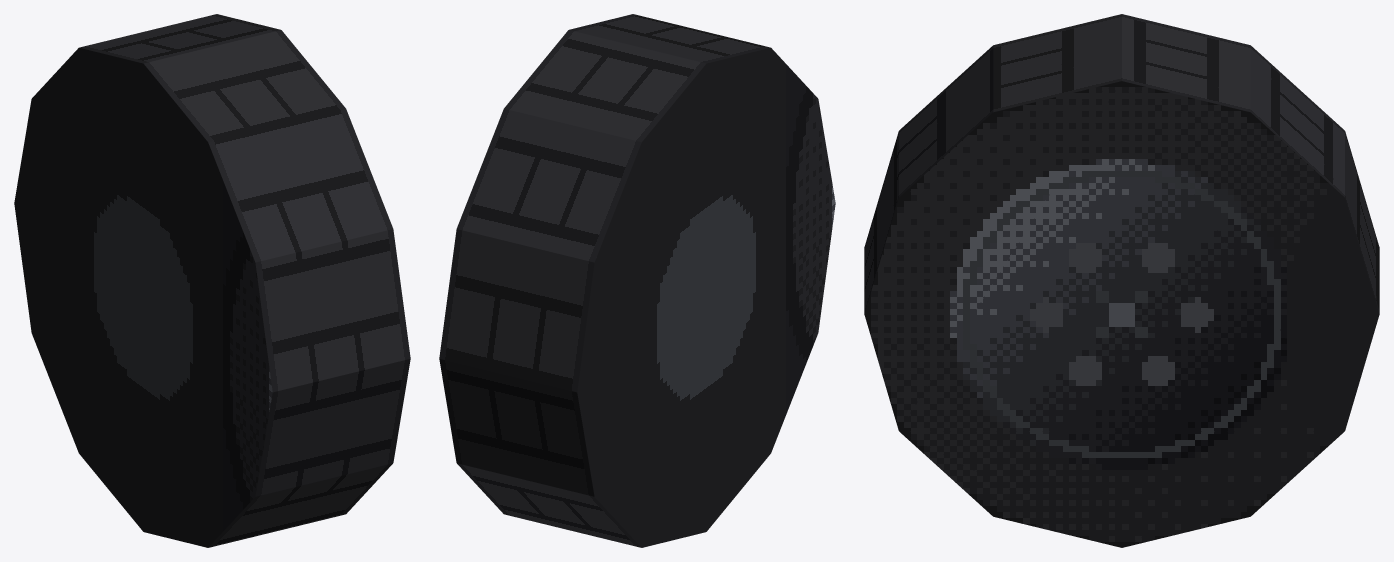
The model's file is wheel_steel.glb.
3 views of the same model, side by side, from view 1: azimuth 30°, elevation 25°; view 2: azimuth 150°, elevation 25°; view 3: azimuth 270°, elevation 25° (orthographic).
Visible parts, largest first — view 1: wheel_steel; view 2: wheel_steel; view 3: wheel_steel.
Part boxes in pixels (left/top/right/bottom): wheel_steel: left=14, top=14, right=410, bottom=547; wheel_steel: left=439, top=14, right=835, bottom=547; wheel_steel: left=864, top=14, right=1379, bottom=547.
Bounding box in the file's own units: 0.225 × 0.7301 × 0.7301.
Materials: 1 (1 with a texture image).
